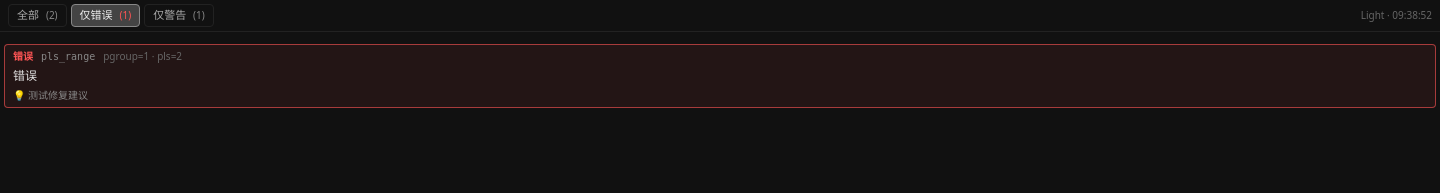
Test case: ValidatePanel › 点击"全部"恢复显示所有 issue
Check: the number of list items is 1, box [4, 44, 1436, 108]
Click the button "全部 (2)" at (37, 15), box [8, 4, 67, 26]
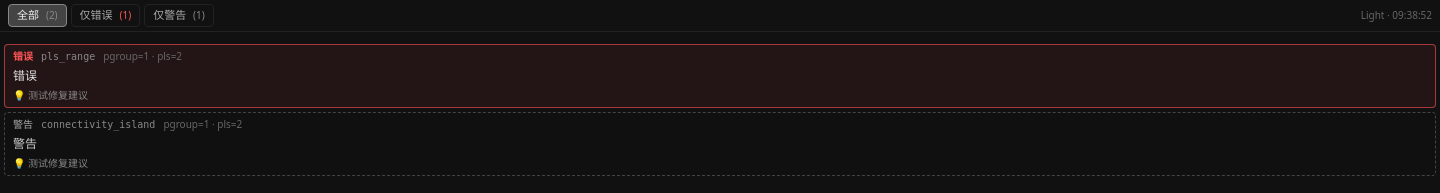
Check: the number of list items is 2, box [4, 44, 1436, 108]; [4, 112, 1436, 176]
